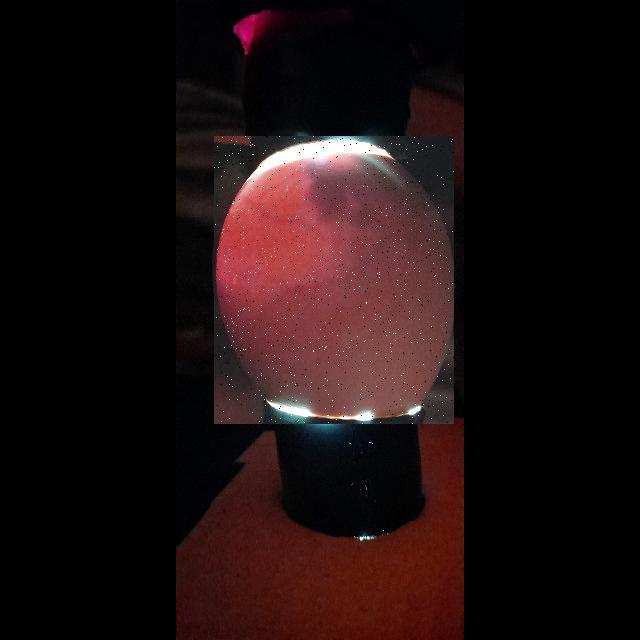Fertile: (214, 136, 454, 424)
